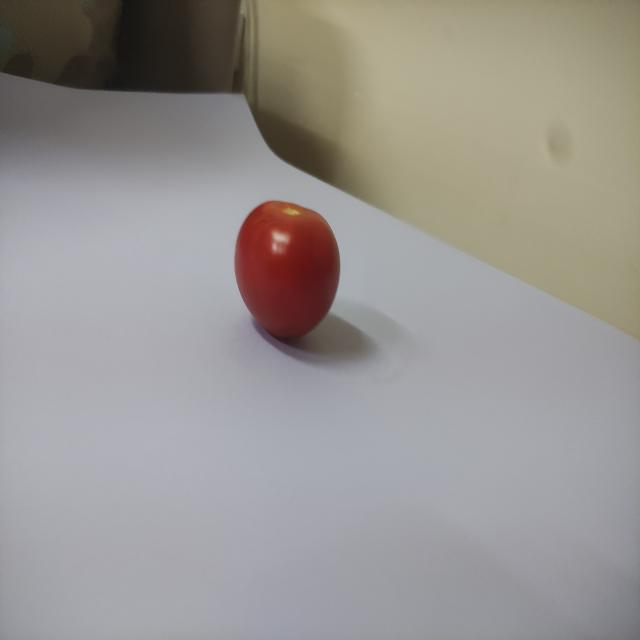kirmizi: (231, 186, 346, 360)
